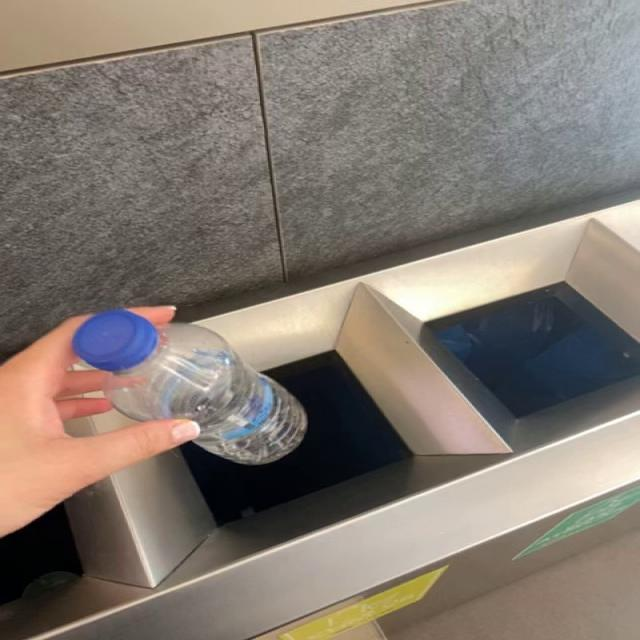plastic: (72, 309, 307, 466)
